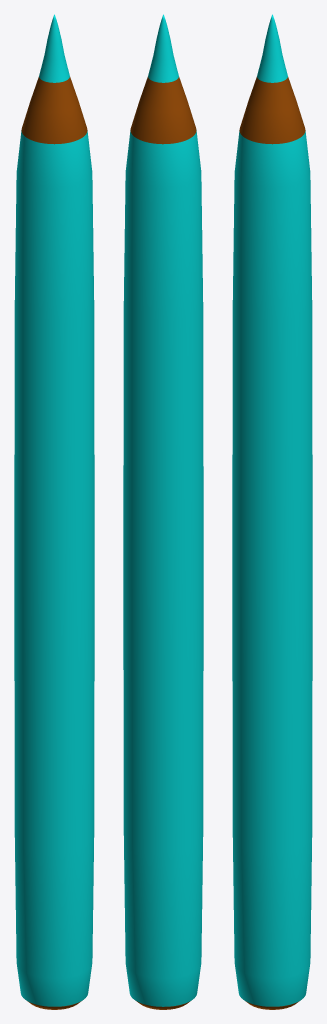
The model's file is pencil3.fbx.
3 renders of one model, left to right at view 1: azimuth 90°, elevation 25°; view 2: azimuth 150°, elevation 25°; view 3: azimuth 270°, elevation 25°, orthographic.
Parts seen in each view (by area): view 1: Цилиндр; view 2: Цилиндр; view 3: Цилиндр.
Part boxes in pixels (left/top/right/bottom): Цилиндр: left=14, top=14, right=94, bottom=1009; Цилиндр: left=123, top=14, right=203, bottom=1009; Цилиндр: left=232, top=14, right=312, bottom=1009.
Size of the model in its own units: 2.08 by 28.06 by 2.08.
